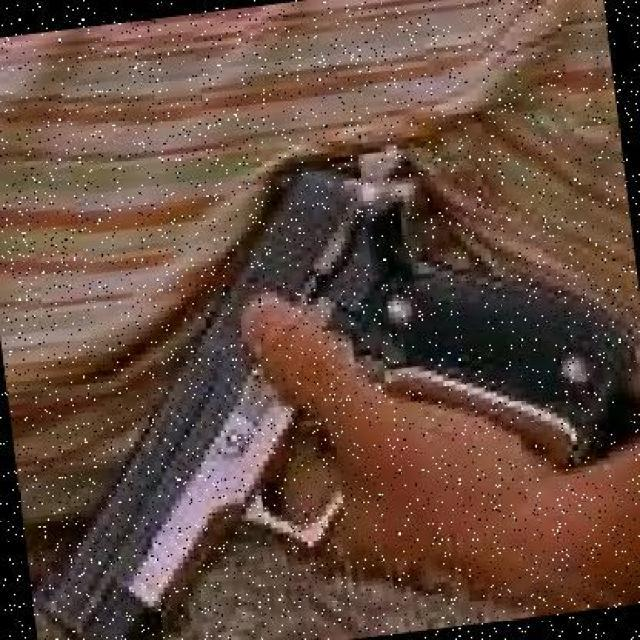rifle: (17, 132, 635, 635)
